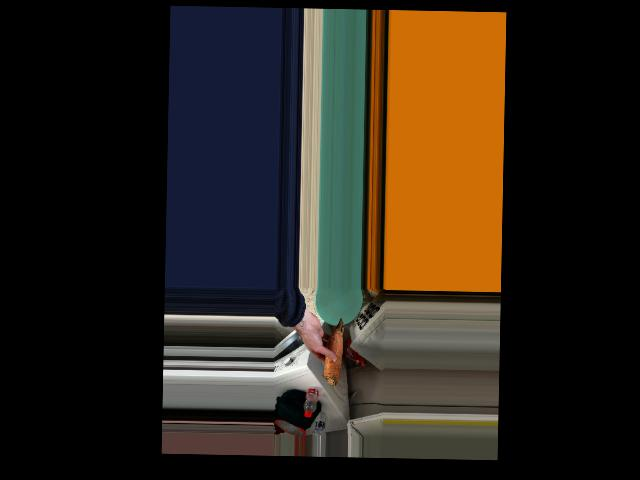sweet_potato: (322, 320, 342, 385)
